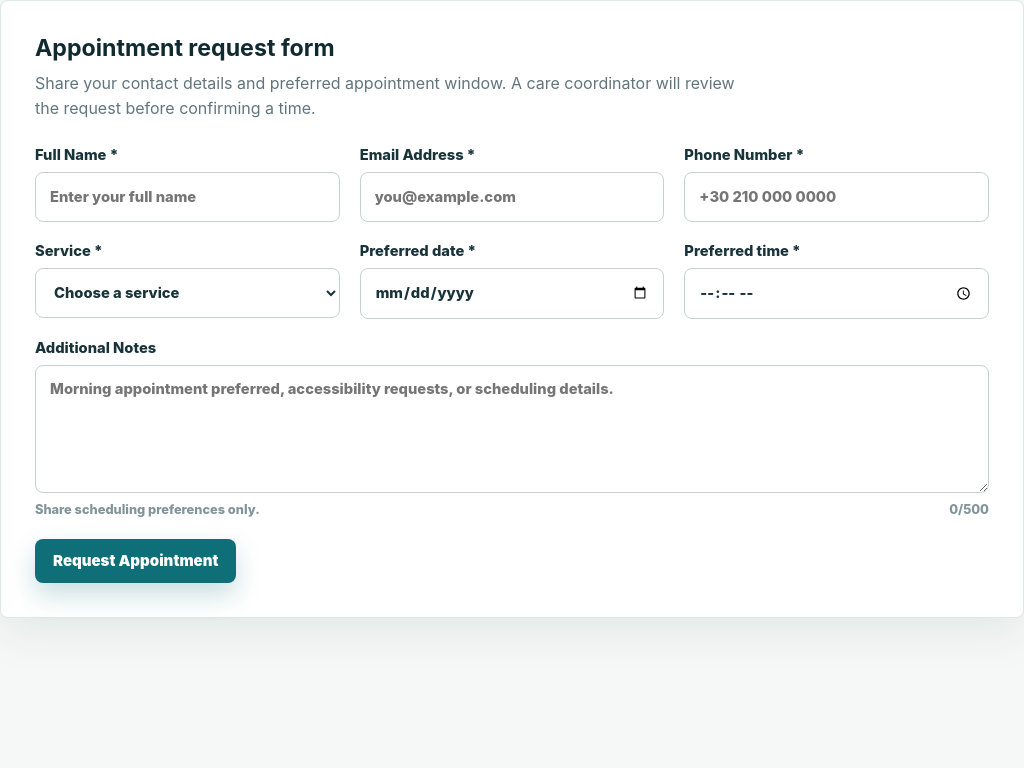
Test case: BookingForm › successful submit shows client confirmation copy
Type "Mina Carter" into the field labelled "Full Name *" at (187, 197), box [35, 172, 340, 222]
Type "mina@example.com" into the field labelled "Email Address *" at (512, 197), box [360, 172, 664, 222]
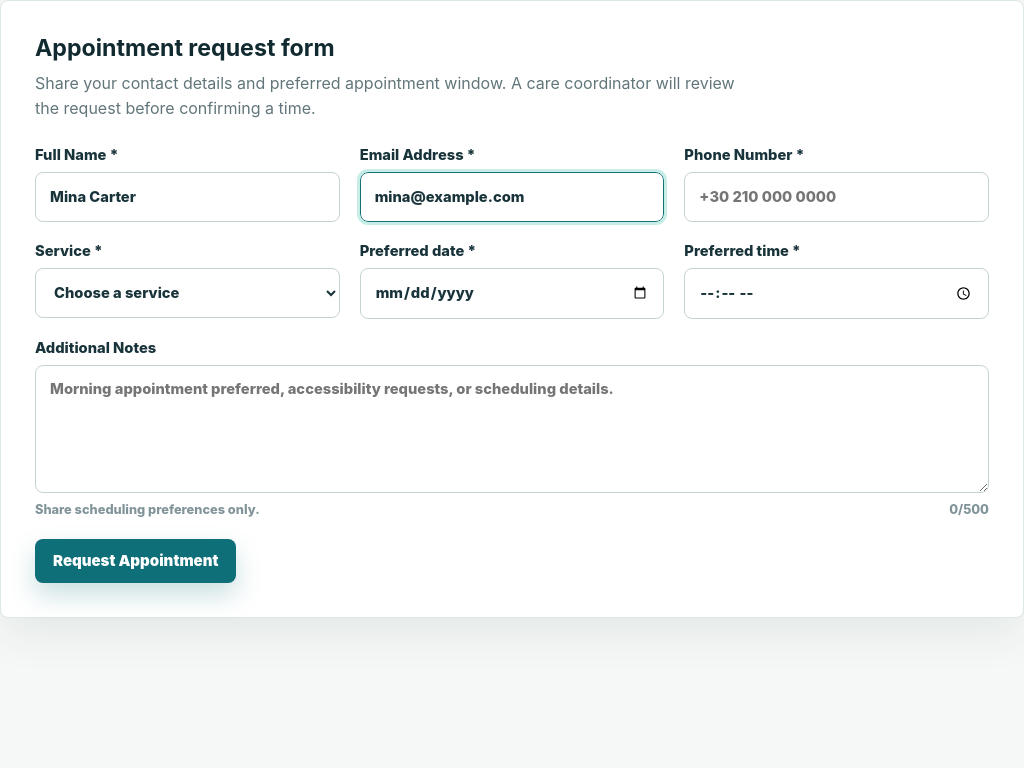
Type "555-0199" into the field labelled "Phone Number *" at (837, 197), box [684, 172, 989, 222]
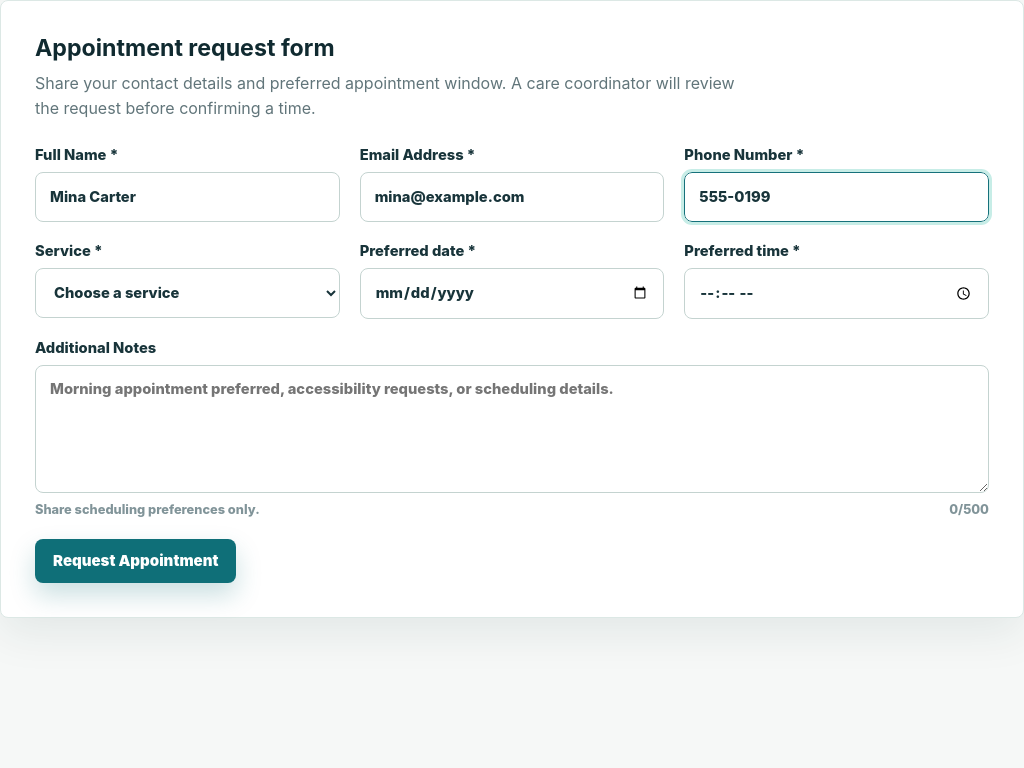
Select "Hearing test" in the dropdown labelled "Service *" at (187, 293), box [35, 268, 340, 318]
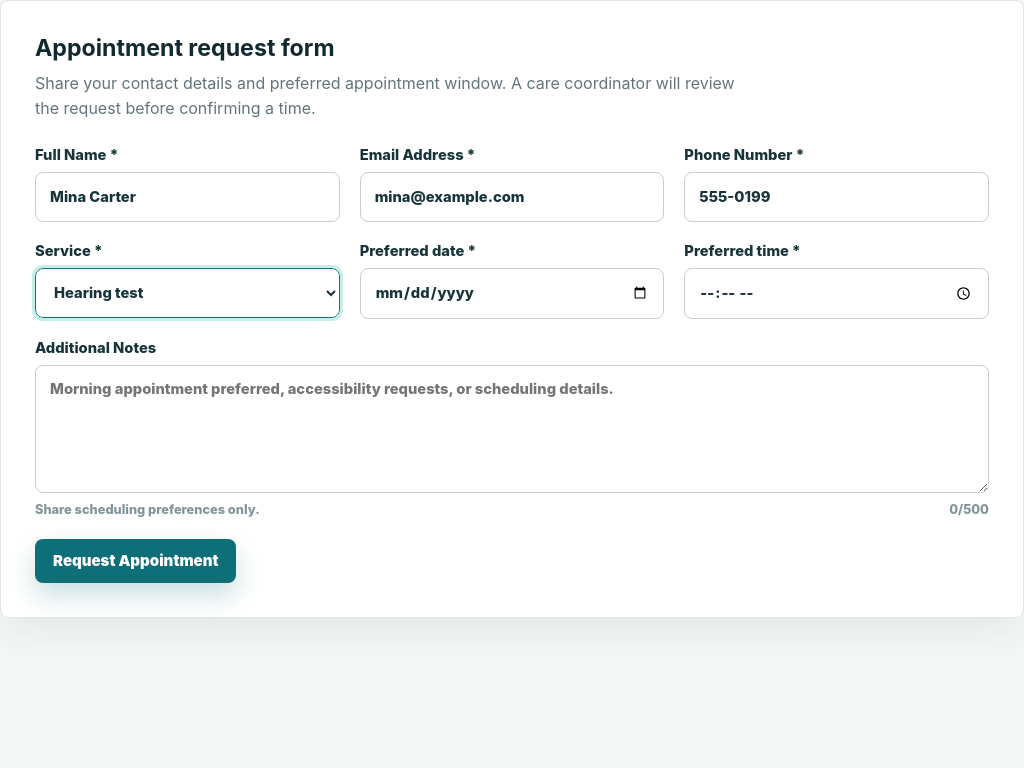
Type "2026-06-15" into the date field labelled "Preferred date *" at (512, 293), box [360, 268, 664, 319]
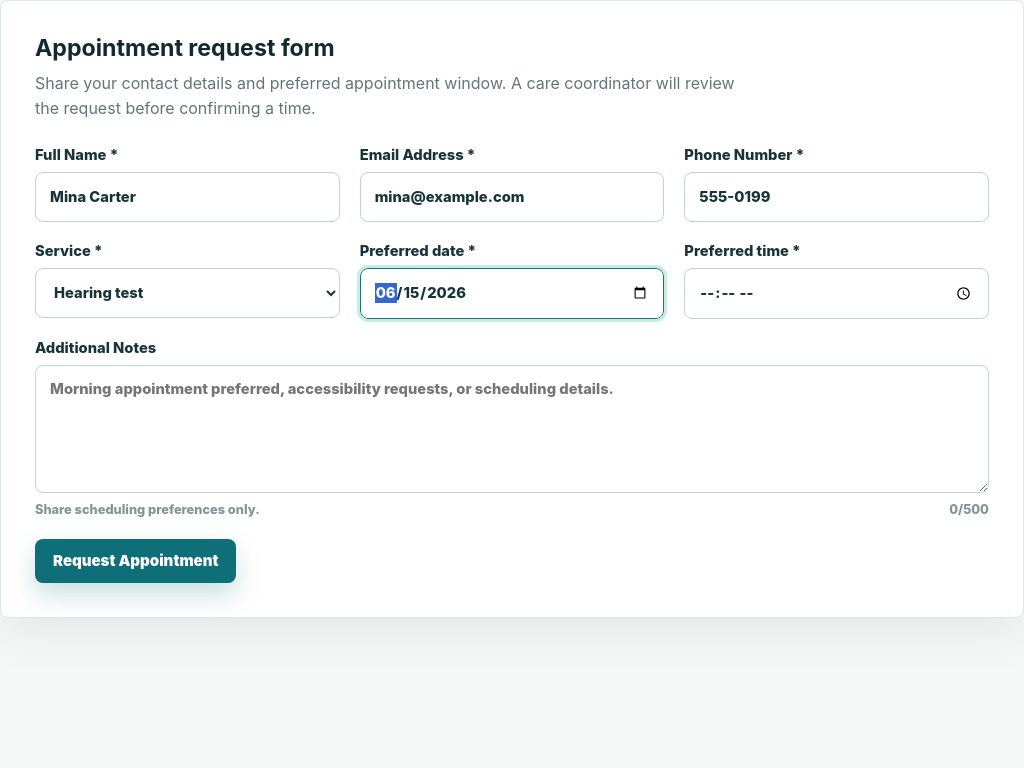
Type "10:30" into the time field labelled "Preferred time *" at (837, 293), box [684, 268, 989, 319]
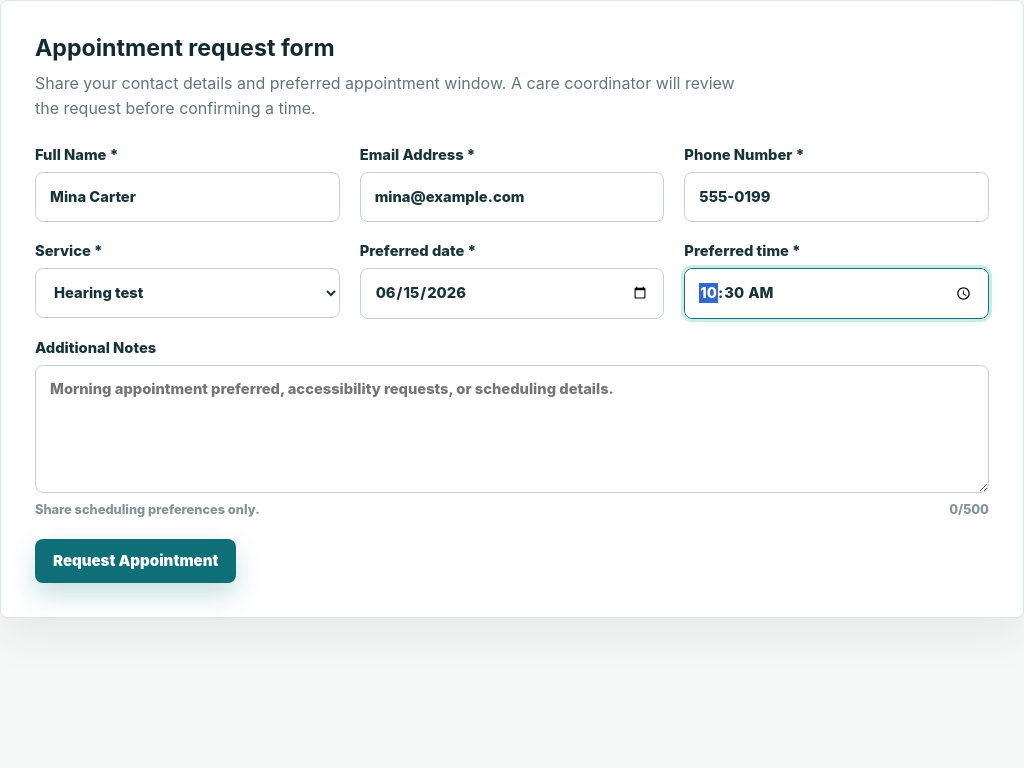
Click the button "Request Appointment" at (136, 560), box [35, 538, 236, 582]
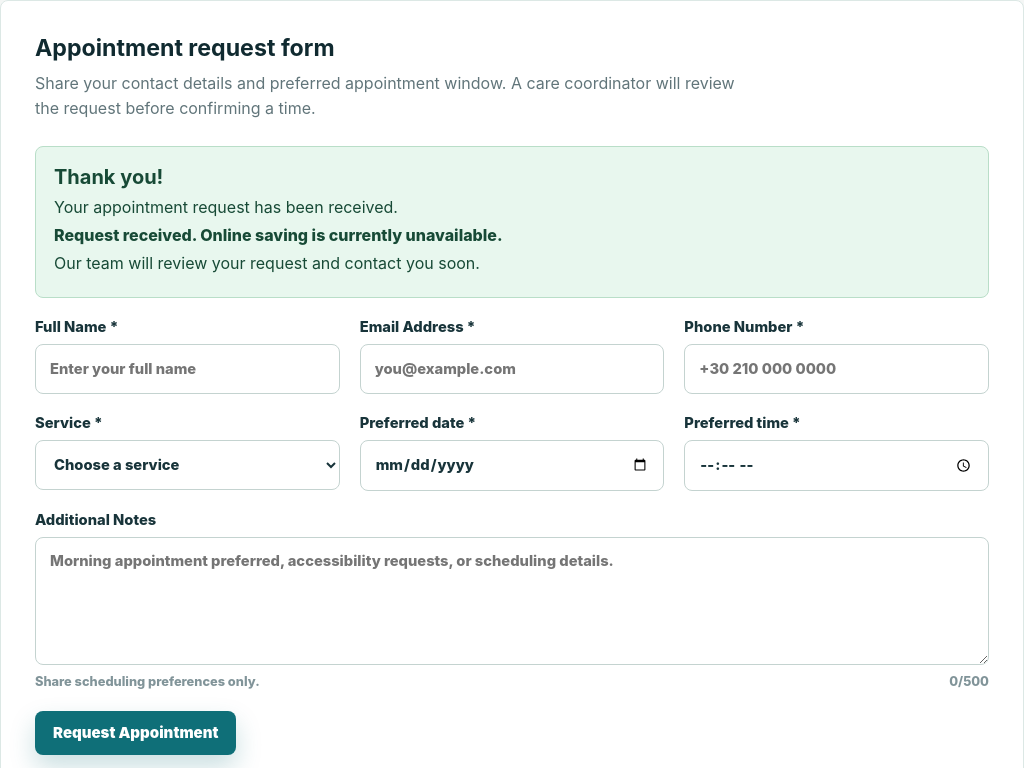
Now the heading "Thank you!" is shown, box [54, 165, 163, 189]
Now the text "Your appointment request has been received." is shown, box [54, 197, 398, 217]
Now the text "Our team will review your request and contact you soon." is shown, box [54, 253, 480, 273]
